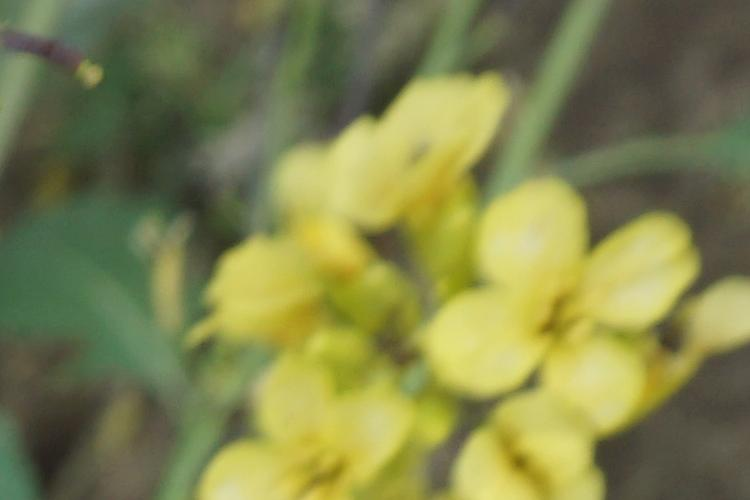yellow: (447, 195, 664, 406), (211, 222, 416, 388), (292, 72, 491, 225), (195, 366, 423, 495), (440, 401, 629, 498)
